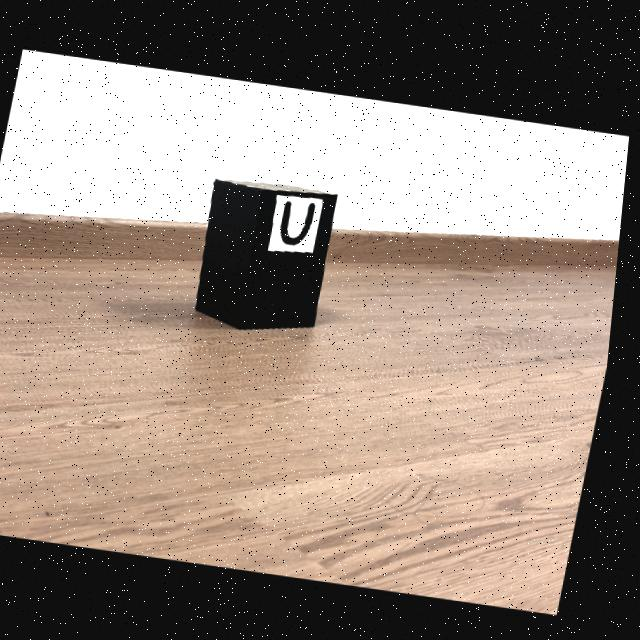U: (284, 198, 319, 243)
